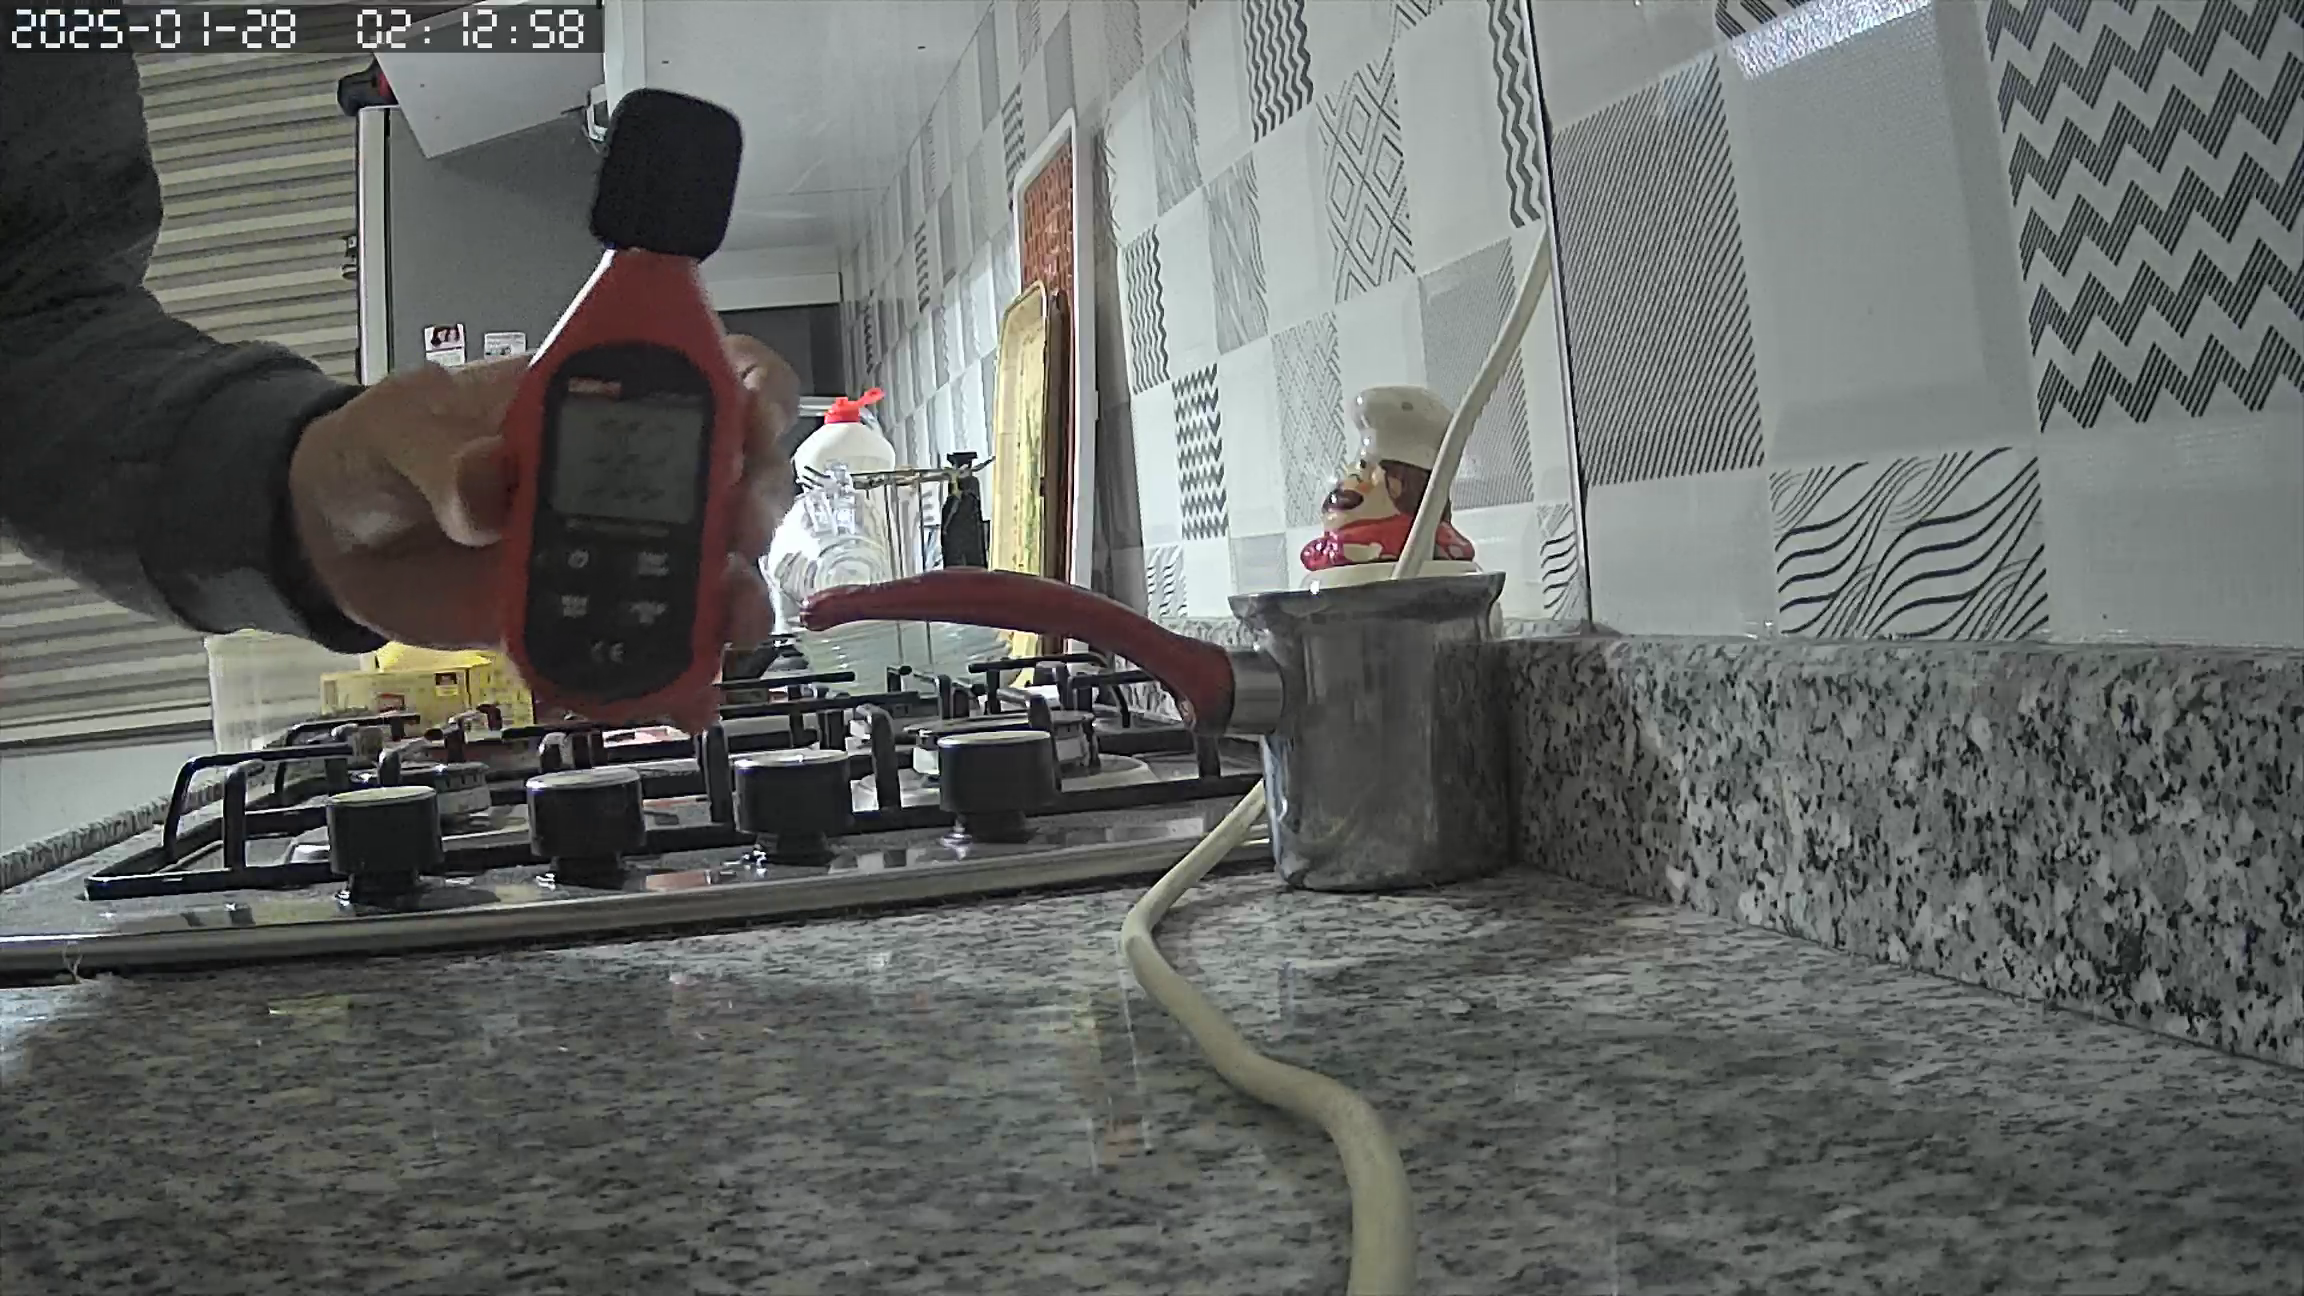screen: (551, 397, 699, 525)
